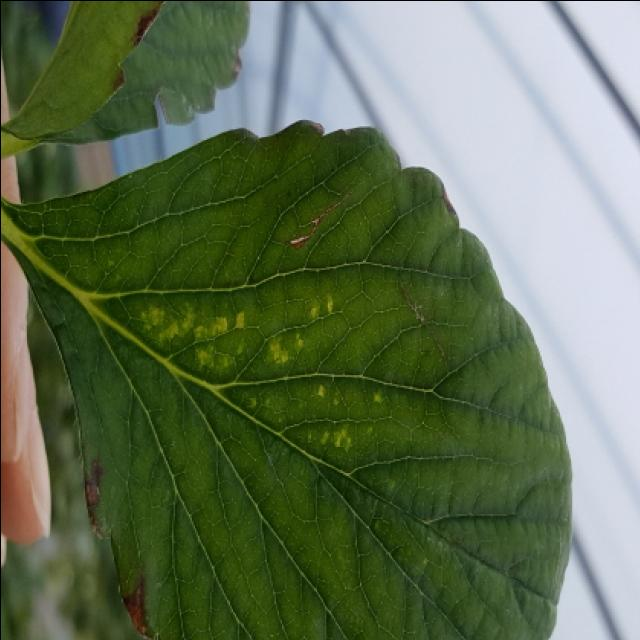Angular Leafspot: (114, 285, 402, 494)
